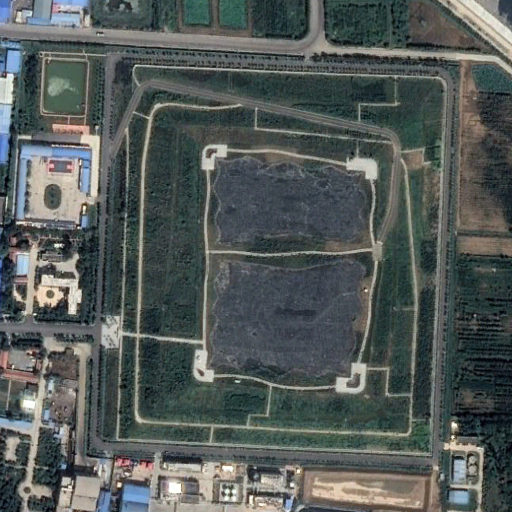lf: (204, 144, 373, 384)
